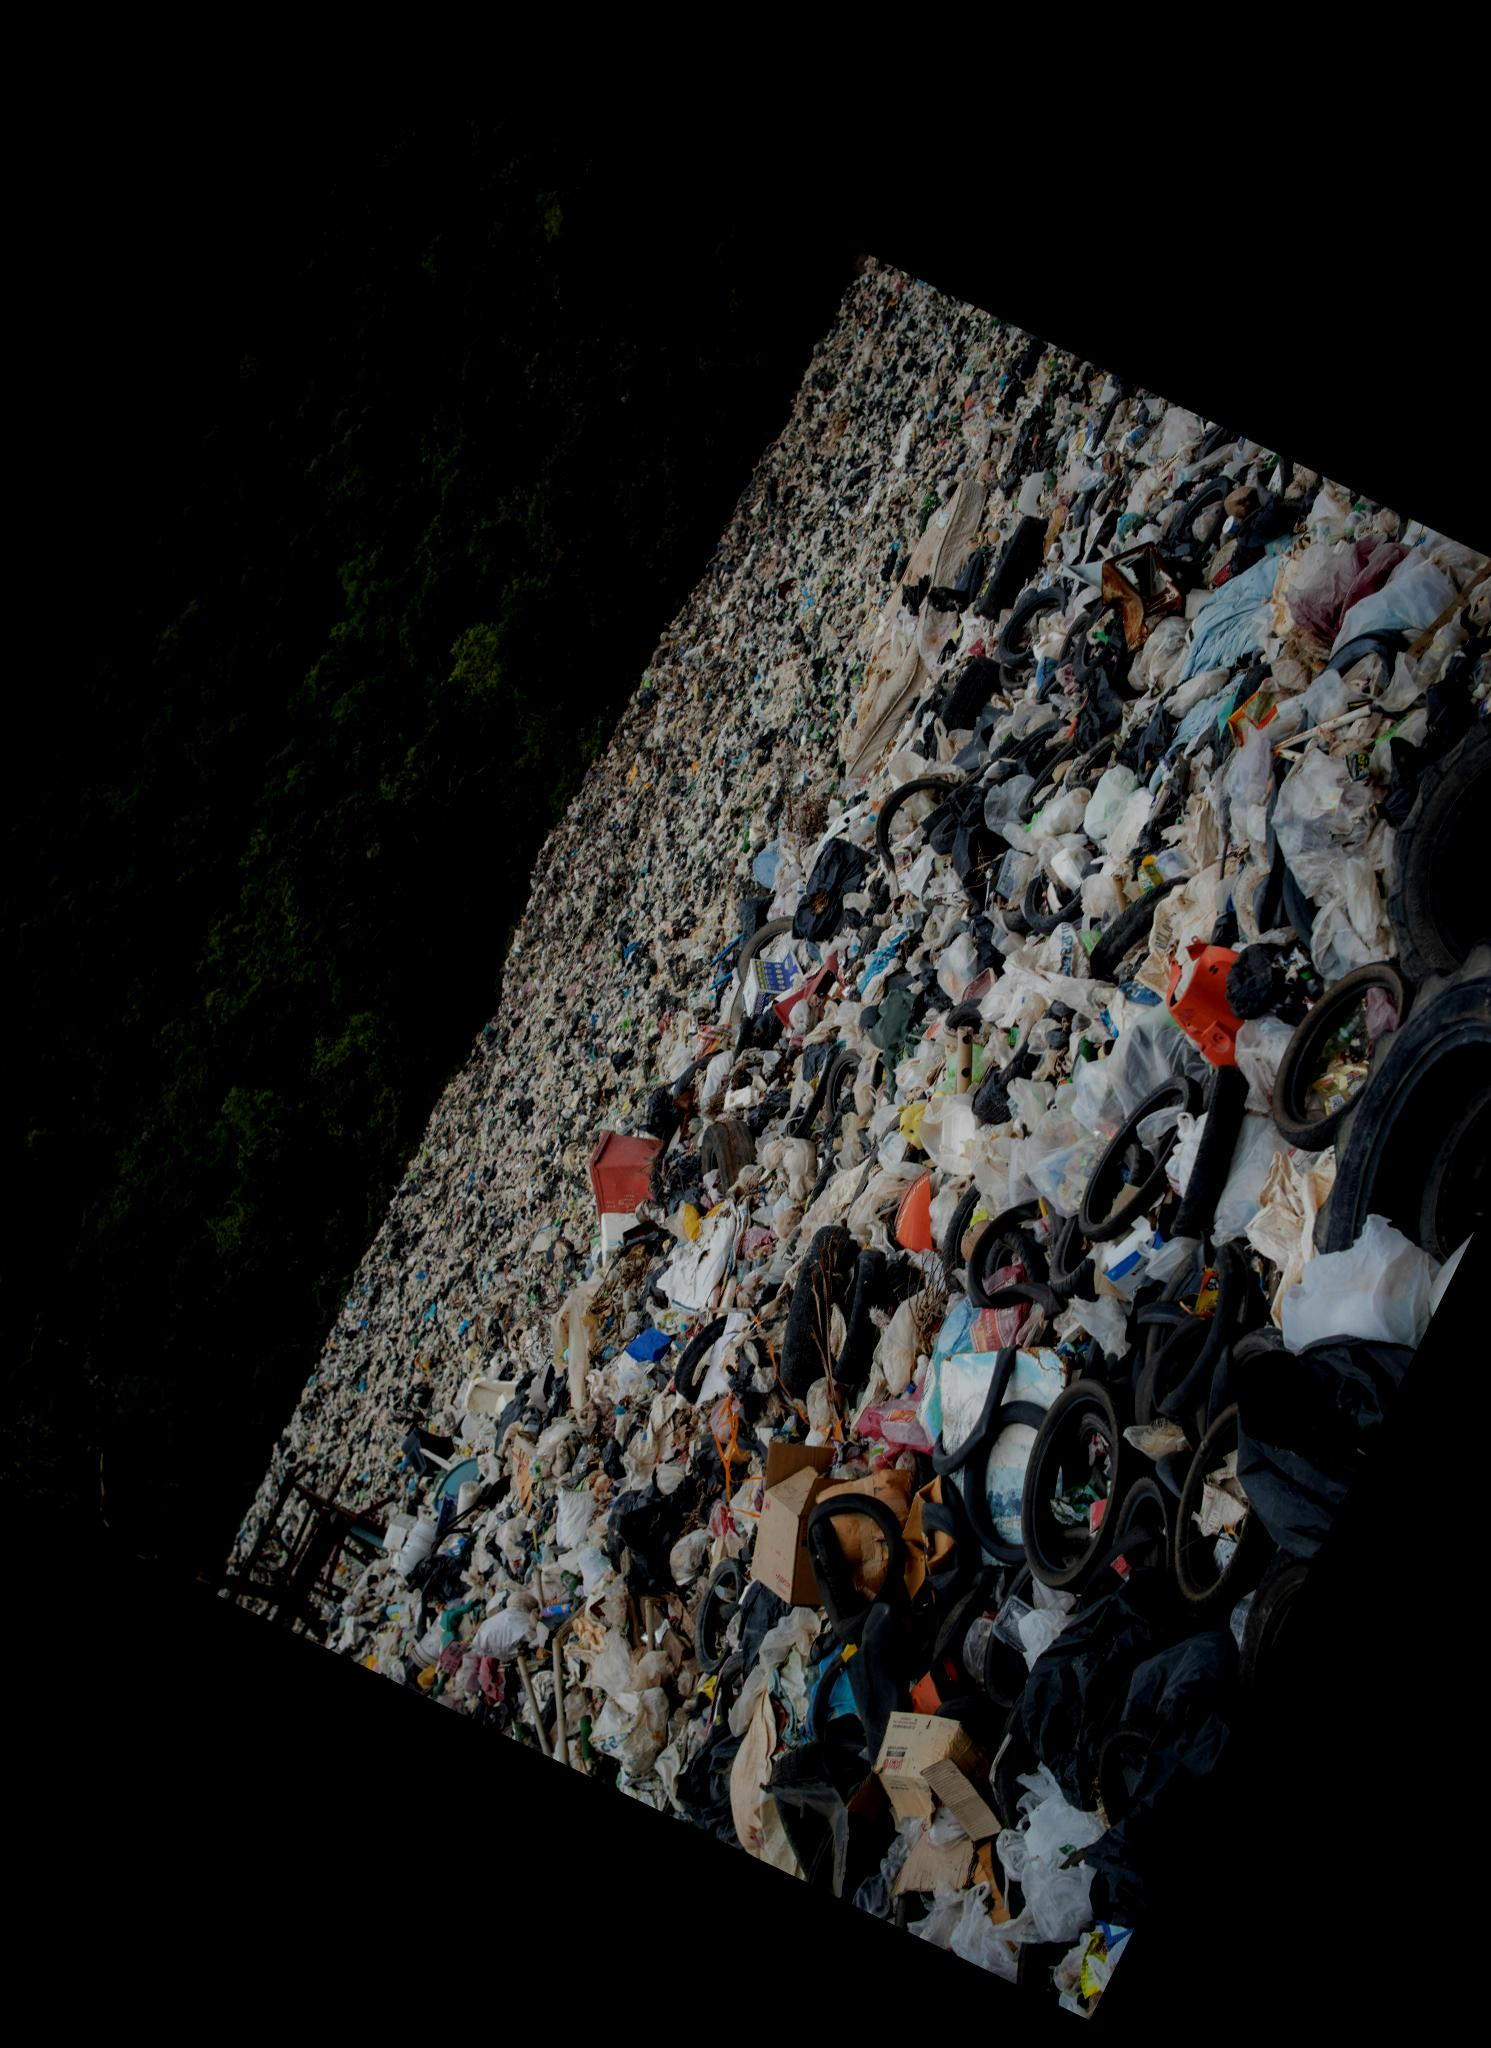Trash: (200, 250, 1491, 2019)
